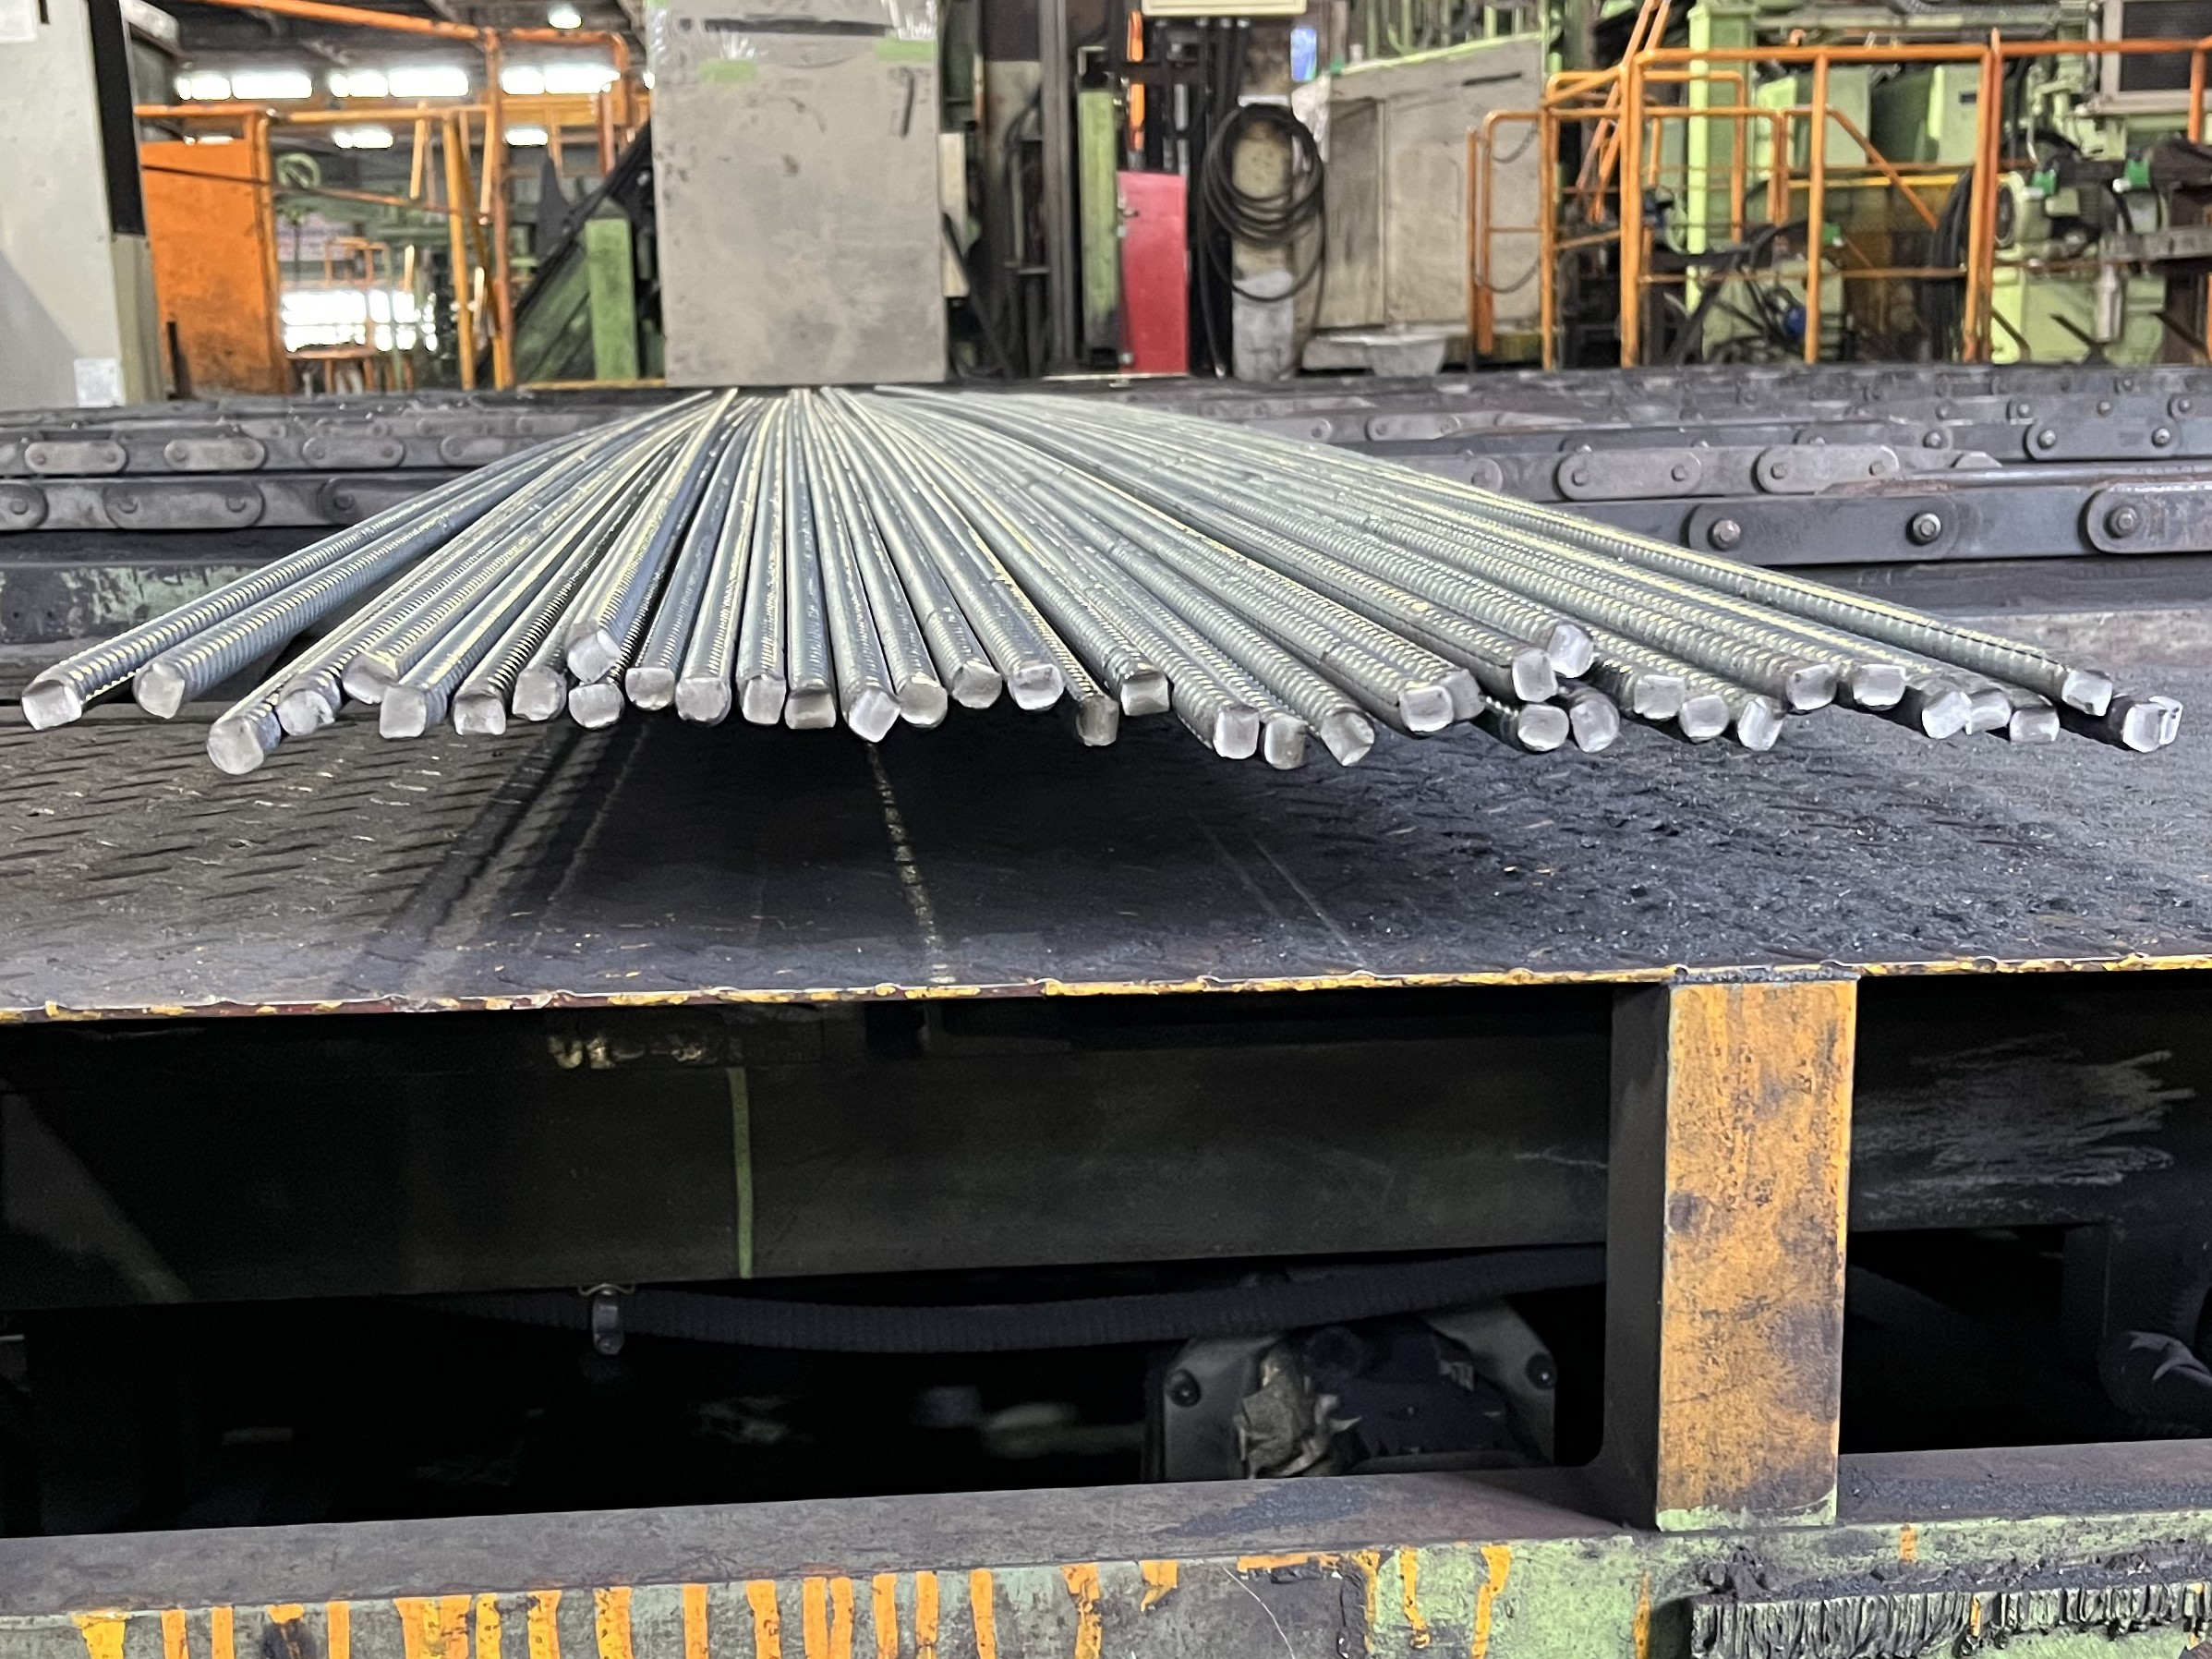rod: (204, 716, 268, 777), (1317, 708, 1378, 770), (19, 674, 85, 732), (131, 657, 186, 720), (1918, 685, 1975, 742), (510, 666, 566, 725), (564, 629, 624, 685), (845, 685, 900, 744), (273, 687, 336, 739), (1545, 619, 1597, 681), (341, 650, 399, 706), (2059, 666, 2116, 720), (674, 674, 733, 727), (1514, 702, 1571, 755), (449, 687, 509, 737), (1735, 695, 1787, 751), (378, 683, 428, 741), (1211, 704, 1261, 762), (1399, 685, 1456, 735), (897, 674, 949, 728), (1569, 699, 1622, 753), (1632, 671, 1686, 723), (1784, 664, 1841, 713), (1850, 662, 1909, 709), (1508, 648, 1559, 702), (1263, 714, 1310, 772), (1679, 694, 1730, 746), (784, 681, 838, 730), (2120, 701, 2168, 755), (568, 683, 624, 730), (951, 662, 1003, 711), (1012, 664, 1064, 713), (1122, 669, 1172, 718), (1963, 687, 2013, 735), (740, 674, 787, 727), (624, 666, 678, 711), (1075, 695, 1120, 749), (2006, 702, 2062, 746), (1440, 669, 1487, 720)
